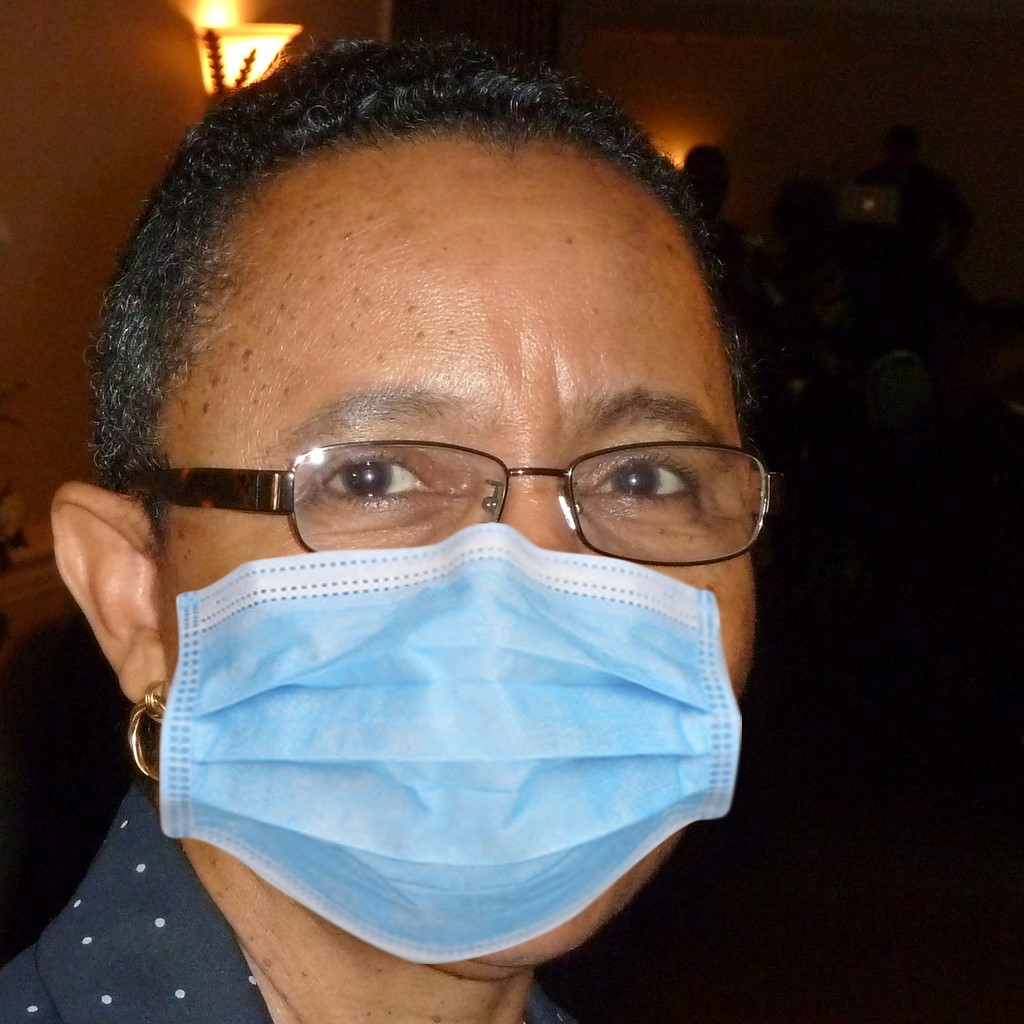con_mascara: (141, 154, 755, 972)
